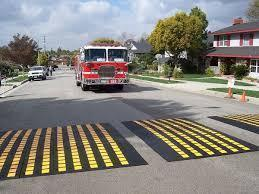speedbreaker: (2, 128, 142, 168), (136, 116, 228, 158), (214, 113, 259, 135)
